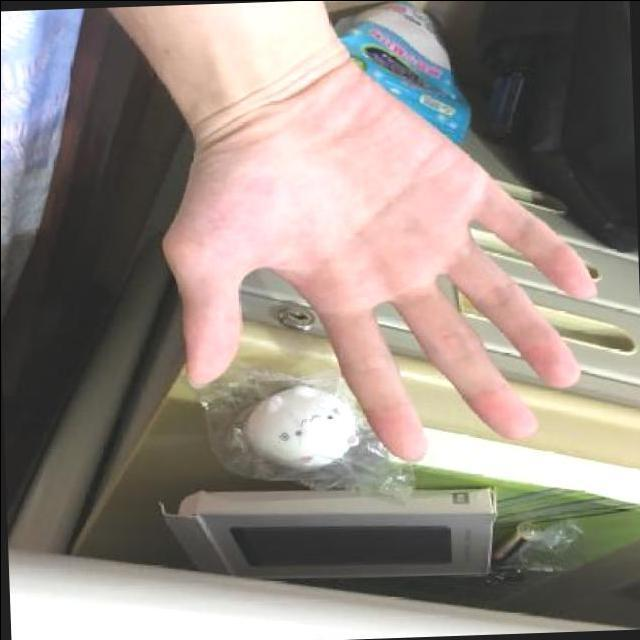hand: (125, 33, 622, 474)
